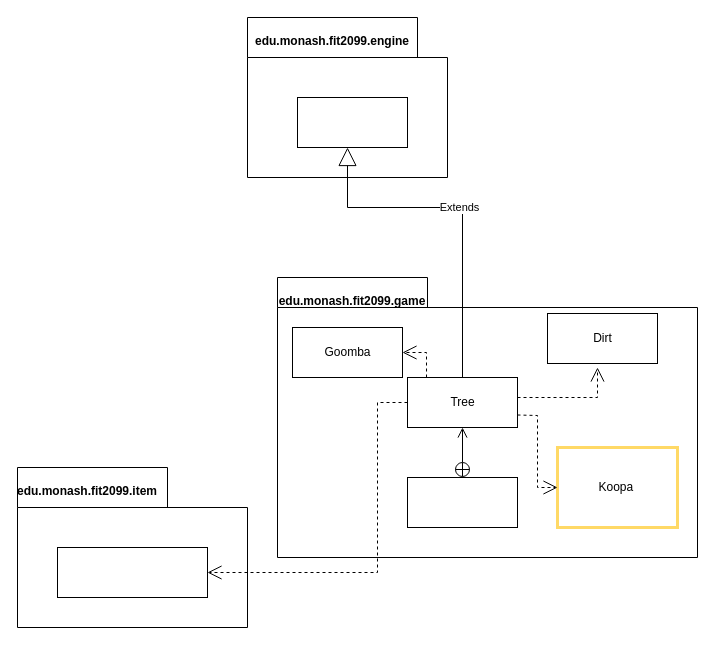
This 715x645 diagram has some shape labels left out. The shapes that lost their labels are listed below. From the top down, each one's centre as x and y in pixels, then its label:
At (x=352, y=122): "Ground".
At (x=462, y=502): "<< enum >> TreeCycleStage".
At (x=132, y=572): "Coin".
